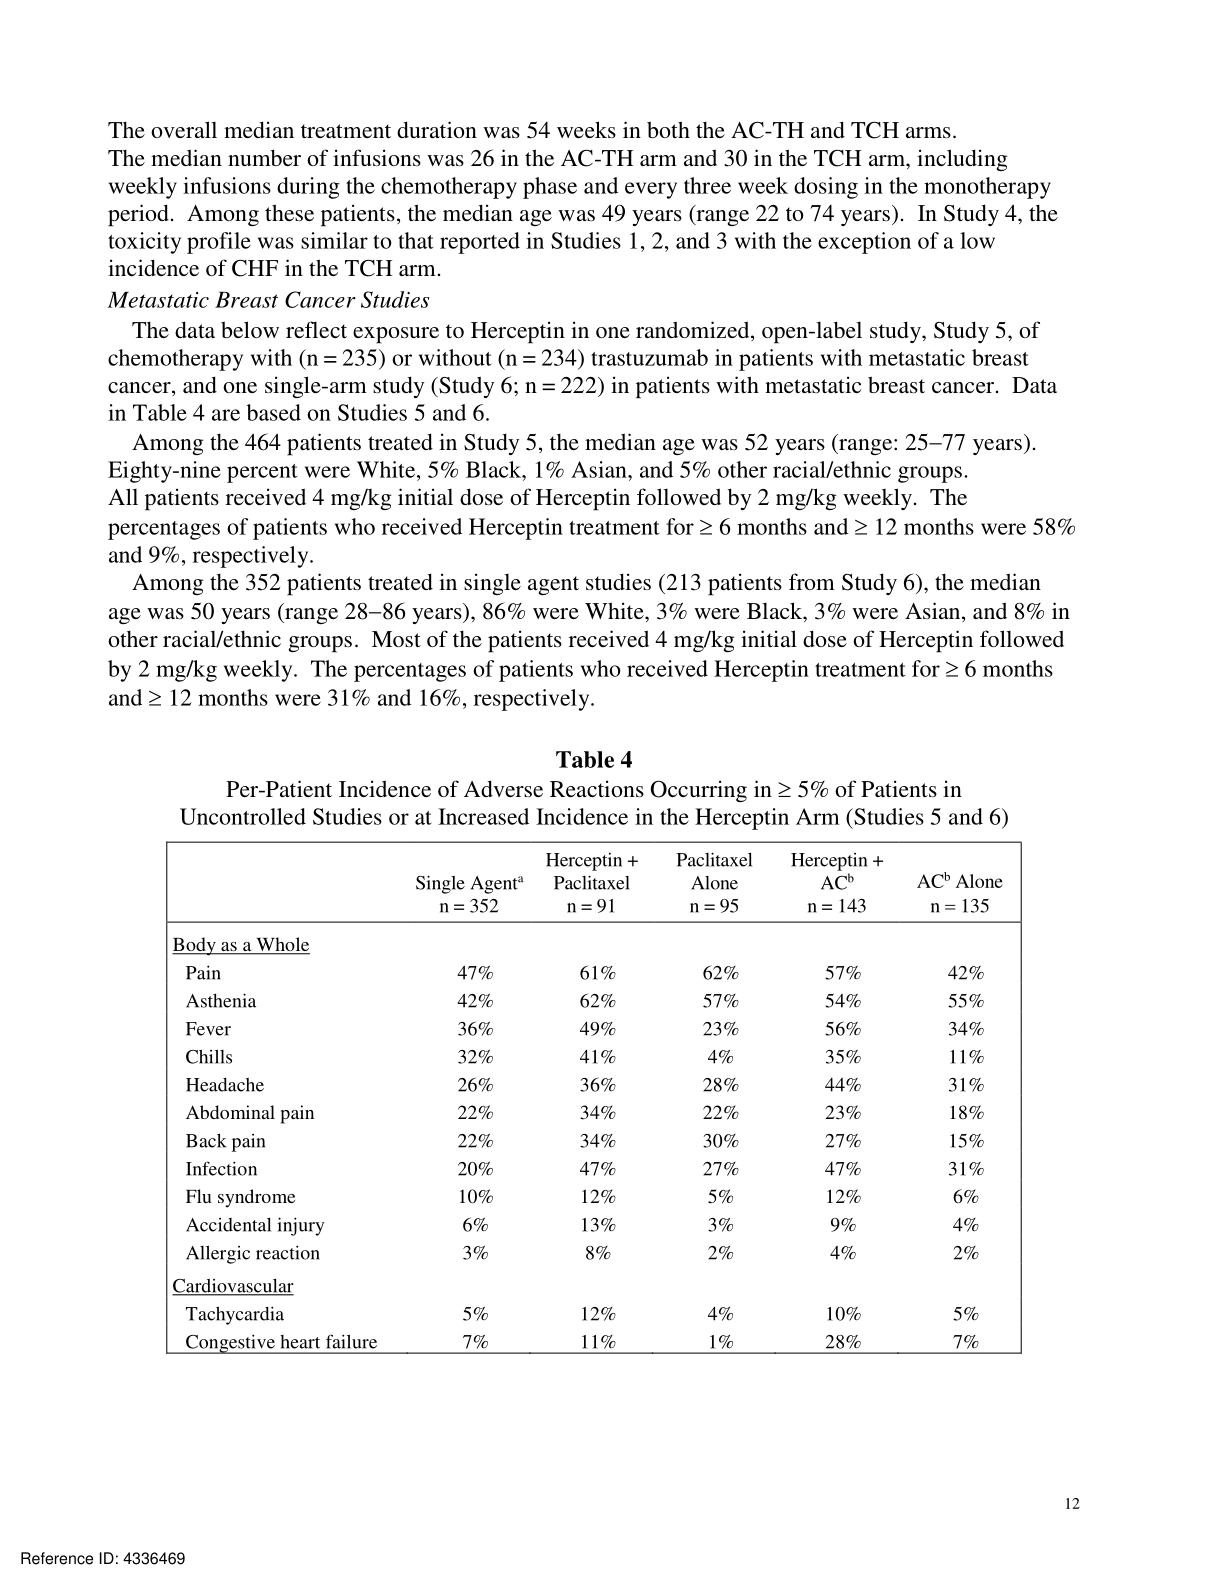partial_lined_merged_cells: (165, 840, 1023, 1355)
